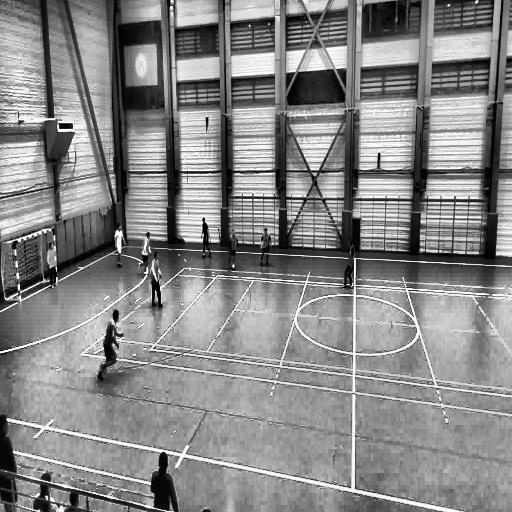ball: (232, 264, 236, 270)
player: (98, 309, 123, 381), (0, 418, 18, 512), (150, 250, 162, 306), (343, 238, 356, 288), (226, 228, 240, 272), (140, 232, 152, 278), (47, 241, 58, 288), (114, 223, 125, 267), (202, 218, 213, 260), (260, 228, 272, 266)
